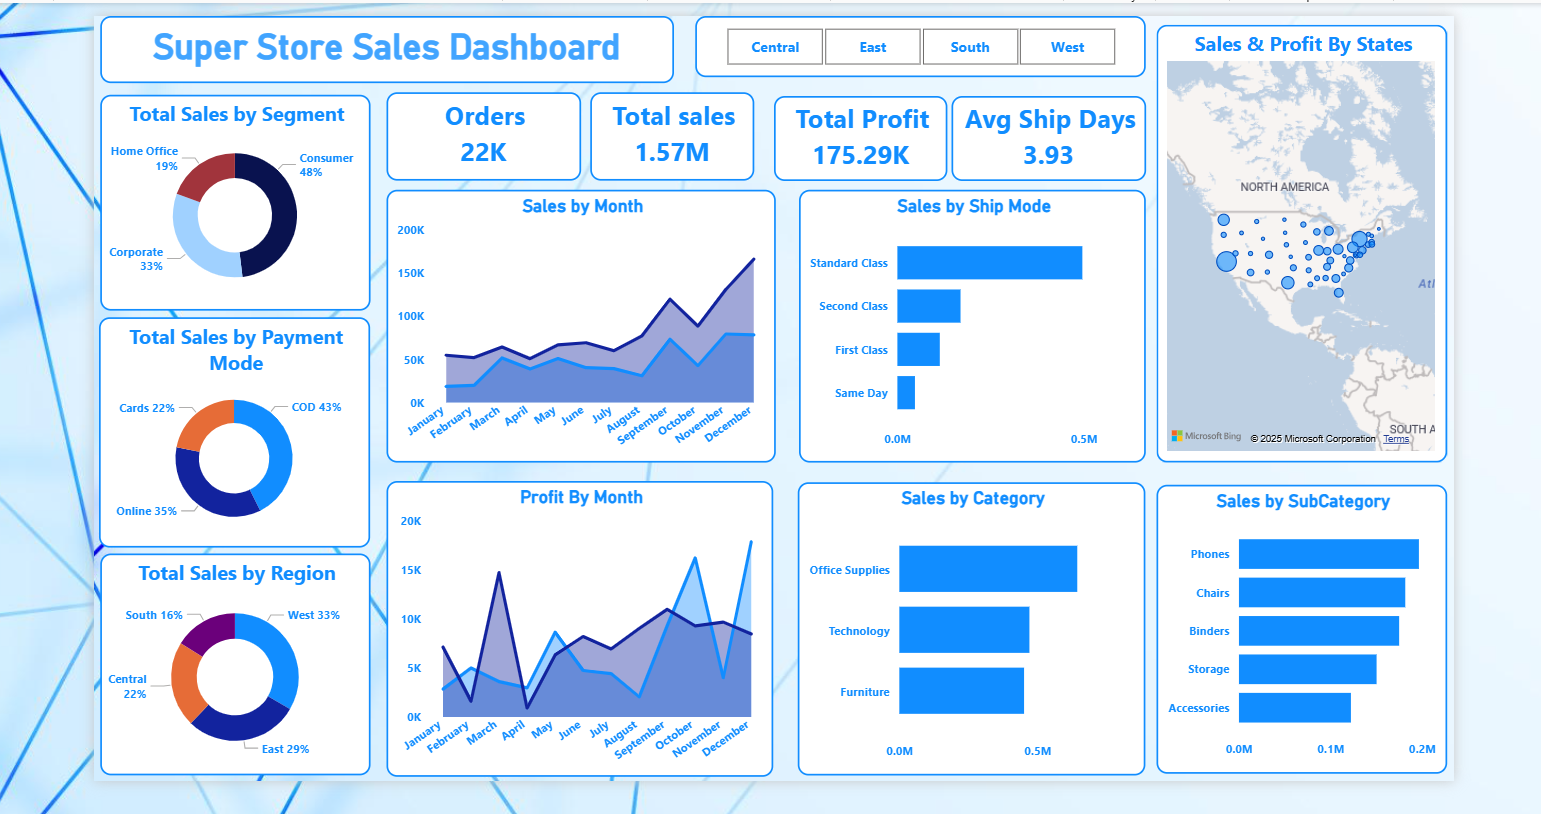

This screenshot's page, from the dashboard's own definition file:
{"tool":"powerbi","page":{"name":"Dashbourd","canvas":[1280,720],"ordinal":0},"visuals":[{"type":"clusteredBarChart","title":"Sales by Category","fields":{"Category":["SuperStore_Sales_Dataset (2).Category"],"Y":["Sum(SuperStore_Sales_Dataset (2).Sales)"]},"box":[662.9,438.6,327.1,275.7],"z":0},{"type":"clusteredBarChart","title":"Sales by SubCategory","fields":{"Category":["SuperStore_Sales_Dataset (2).Sub-Category"],"Y":["Sum(SuperStore_Sales_Dataset (2).Sales)"]},"box":[1000,441.7,273.3,271.7],"z":1000},{"type":"clusteredBarChart","title":"Sales by Ship Mode","fields":{"Category":["SuperStore_Sales_Dataset (2).Ship Mode"],"Y":["Sum(SuperStore_Sales_Dataset (2).Sales)"]},"box":[663.3,163.3,326.7,256.7],"z":2000},{"type":"areaChart","title":"Sales by Month","fields":{"Category":["SuperStore_Sales_Dataset (2).Order Date.Variation.Date Hierarchy.Month"],"Y":["Sum(SuperStore_Sales_Dataset (2).Sales)"],"Series":["SuperStore_Sales_Dataset (2).Order Date.Variation.Date Hierarchy.Year"]},"box":[275,163.3,366.7,256.7],"z":3000},{"type":"areaChart","title":"Profit By Month","fields":{"Category":["SuperStore_Sales_Dataset (2).Order Date.Variation.Date Hierarchy.Month"],"Series":["SuperStore_Sales_Dataset (2).Order Date.Variation.Date Hierarchy.Year"],"Y":["Sum(SuperStore_Sales_Dataset (2).Profit)"]},"box":[275.7,437.1,364.3,278.6],"z":4000},{"type":"map","title":"Sales & Profit By States","fields":{"Category":["SuperStore_Sales_Dataset (2).State"],"Size":["Sum(SuperStore_Sales_Dataset (2).Sales)"]},"box":[1000,8.3,273.3,411.7],"z":5000},{"type":"donutChart","fields":{"Category":["SuperStore_Sales_Dataset (2).Segment"],"Y":["Sum(SuperStore_Sales_Dataset (2).Sales)"]},"box":[5.7,74.3,254.3,202.9],"z":6000},{"type":"donutChart","fields":{"Y":["Sum(SuperStore_Sales_Dataset (2).Sales)"],"Category":["SuperStore_Sales_Dataset (2).Region"]},"box":[5.7,505.7,254.3,208.6],"z":7000},{"type":"donutChart","fields":{"Y":["Sum(SuperStore_Sales_Dataset (2).Sales)"],"Category":["SuperStore_Sales_Dataset (2).Payment Mode"]},"box":[5,283.3,255,216.7],"z":8000},{"type":"slicer","fields":{"Values":["SuperStore_Sales_Dataset (2).Region"]},"box":[585.7,0,404.3,57.1],"z":9000},{"type":"card","title":"Total sales","fields":{"Values":["Sum(SuperStore_Sales_Dataset (2).Sales)"]},"box":[467.1,71.4,154.3,82.9],"z":10000},{"type":"card","title":"Avg Ship Days","fields":{"Values":["Avg(SuperStore_Sales_Dataset (2).Average Delivery)"]},"box":[820,70,170,84.3],"z":11000},{"type":"card","title":"Total Profit","fields":{"Values":["Sum(SuperStore_Sales_Dataset (2).Profit)"]},"box":[641.4,67.1,164.3,87.1],"z":12000},{"type":"card","title":"Orders","fields":{"Values":["Sum(SuperStore_Sales_Dataset (2).Quantity)"]},"box":[275.7,71.4,182.9,82.9],"z":13000},{"type":"textbox","box":[5.7,0,540,62.9],"z":13001}]}

Visuals, with their boxes in screenshot pixels (x1, y1, x2, y2):
"Sales by Category" clusteredBarChart: [794, 480, 1146, 777]
"Sales by SubCategory" clusteredBarChart: [1157, 483, 1451, 776]
"Sales by Ship Mode" clusteredBarChart: [794, 184, 1146, 460]
"Sales by Month" areaChart: [376, 184, 771, 460]
"Profit By Month" areaChart: [377, 478, 769, 778]
"Sales & Profit By States" map: [1157, 17, 1451, 460]
donutChart - SuperStore_Sales_Dataset (2).Segment x Sum(SuperStore_Sales_Dataset (2).Sales): [86, 88, 360, 306]
donutChart - Sum(SuperStore_Sales_Dataset (2).Sales) x SuperStore_Sales_Dataset (2).Region: [86, 552, 360, 777]
donutChart - Sum(SuperStore_Sales_Dataset (2).Sales) x SuperStore_Sales_Dataset (2).Payment Mode: [86, 313, 360, 546]
slicer - SuperStore_Sales_Dataset (2).Region: [711, 8, 1146, 69]
"Total sales" card: [583, 85, 749, 174]
"Avg Ship Days" card: [963, 83, 1146, 174]
"Total Profit" card: [771, 80, 947, 174]
"Orders" card: [377, 85, 574, 174]
textbox: [86, 8, 668, 76]
